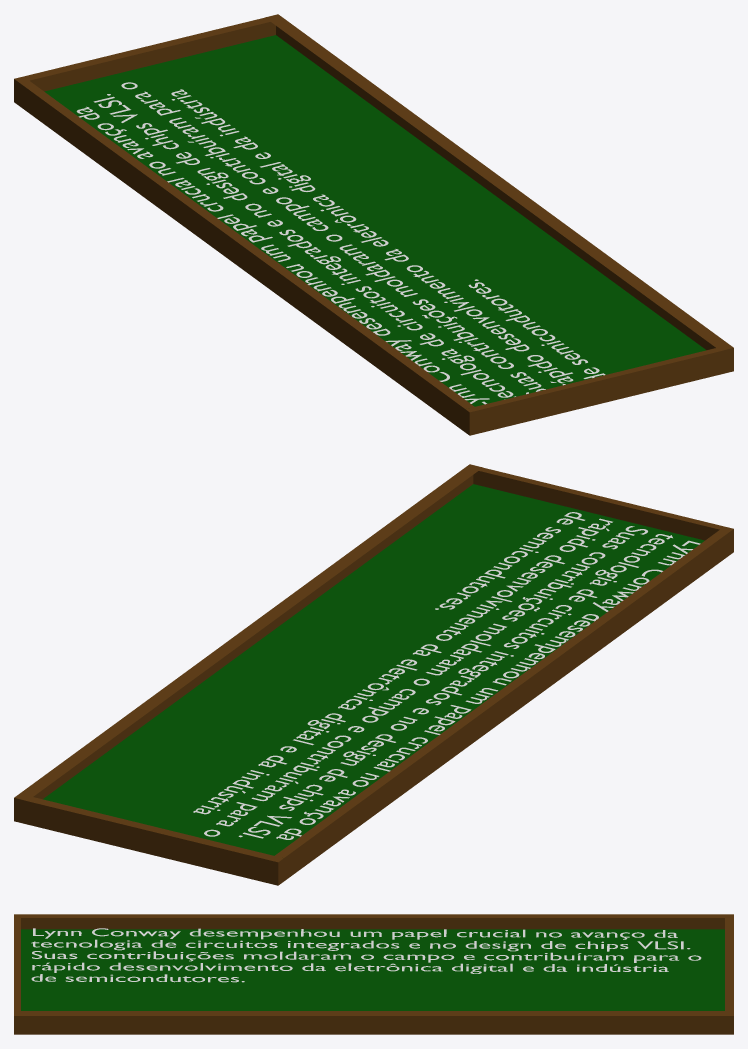
Rendered from Lynn4.fbx.
3 renders of one model, top to bottom at view 1: azimuth 30°, elevation 25°; view 2: azimuth 150°, elevation 25°; view 3: azimuth 270°, elevation 25°, orthographic. The views are drawn at different scales.
Visible parts, largest first — view 1: Cube, Text; view 2: Cube, Text; view 3: Cube, Text.
Part boxes in pixels (left/top/right/bottom): Cube: left=14, top=14, right=733, bottom=435; Text: left=76, top=82, right=605, bottom=404; Cube: left=14, top=464, right=733, bottom=885; Text: left=193, top=512, right=700, bottom=839; Cube: left=14, top=914, right=733, bottom=1034; Text: left=31, top=928, right=701, bottom=982.
Bounding box in the file's own units: 624 × 53.07 × 1865.
